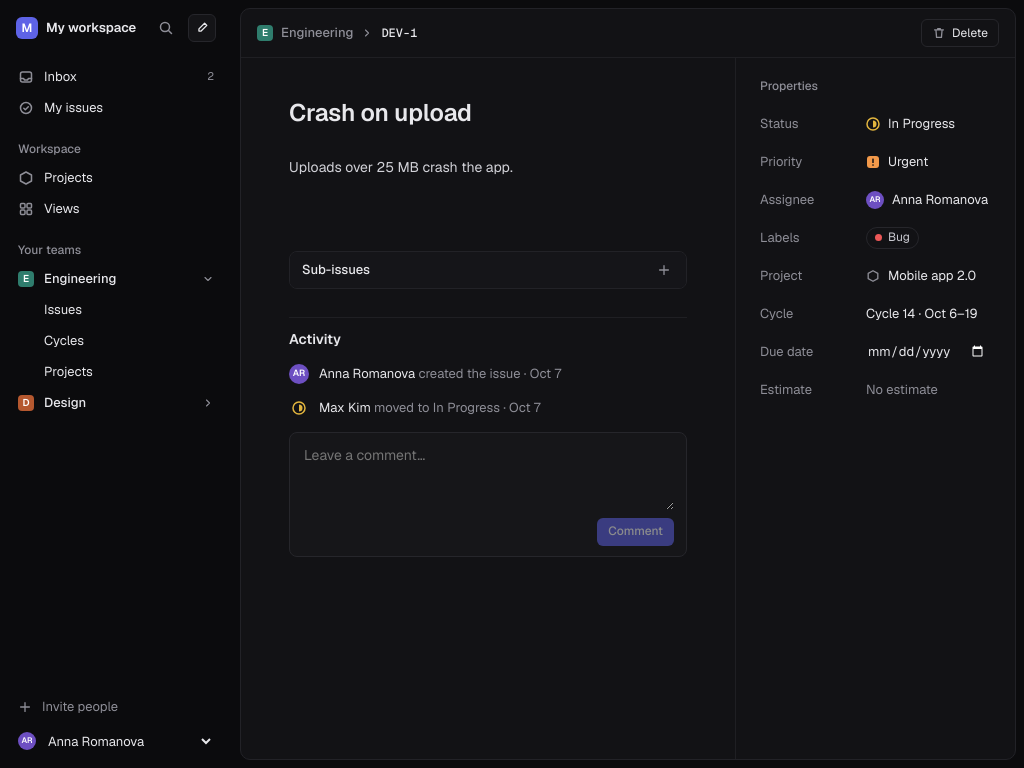
Test case: IssuePage › shows a toast and stays on the page when delete fails
Step 1. Click the button "Delete" → coordinates (960, 33), box [921,19,999,47]
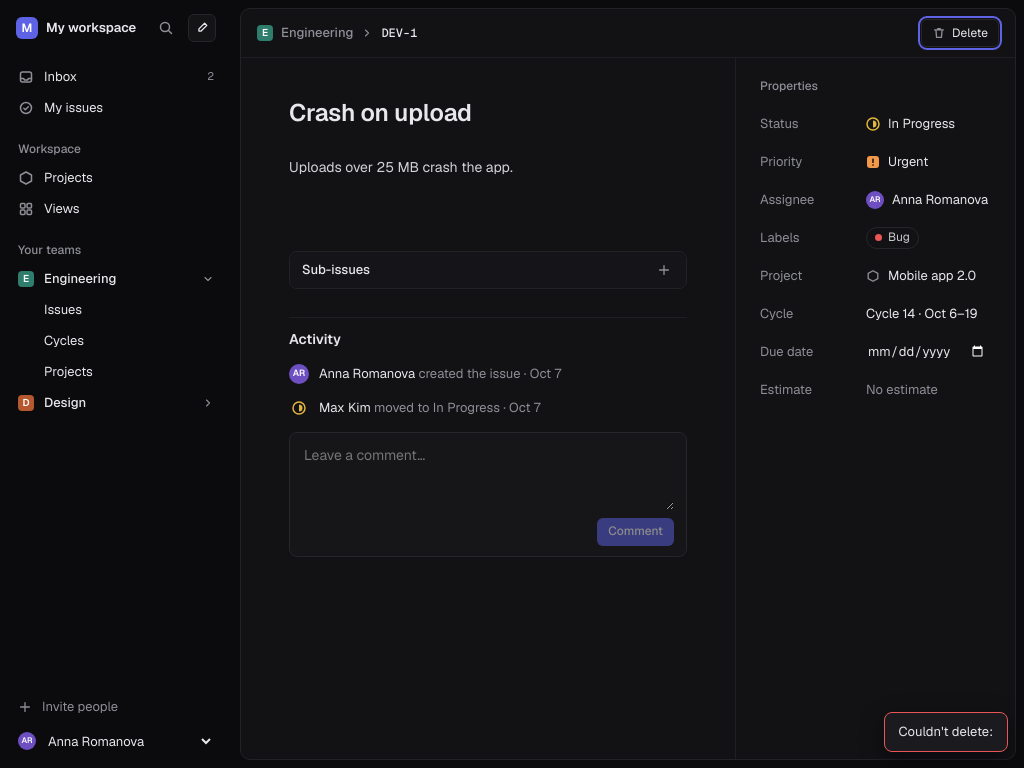
Expected: the field named "Issue title" is shown, [289,98,687,128]
Now the text "Couldn't delete:" is shown, box [884,712,1008,752]
